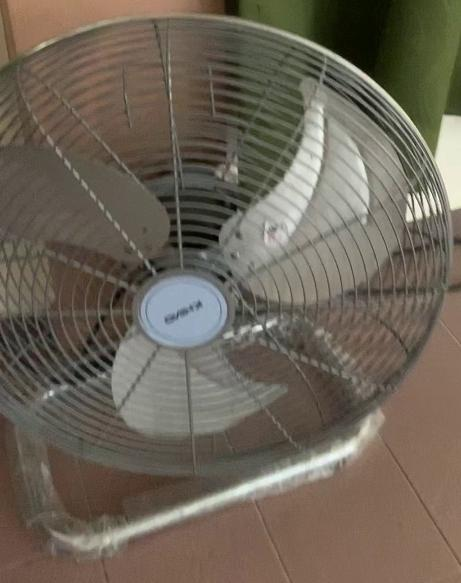fan: (0, 22, 447, 543)
